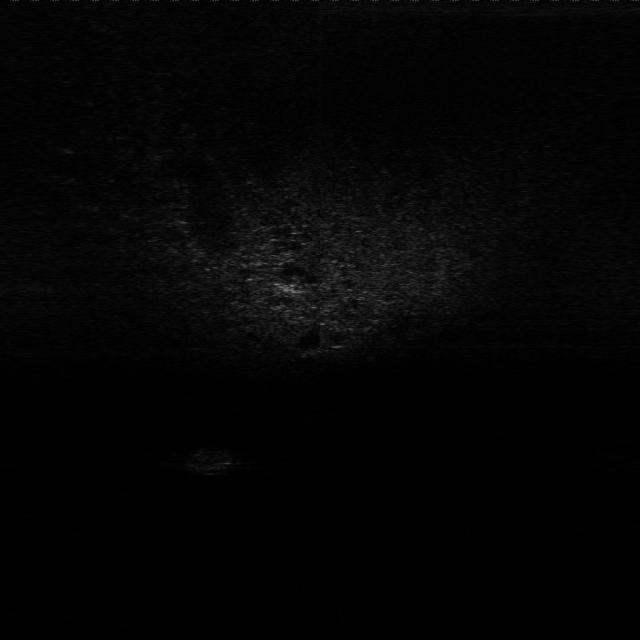circle cage: (178, 443, 244, 481)
